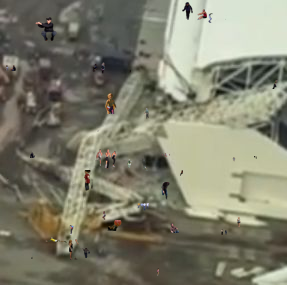Human: (92, 62, 131, 76), (35, 17, 57, 41), (72, 170, 94, 191), (95, 149, 117, 169), (105, 93, 118, 114), (127, 158, 148, 171), (68, 239, 79, 260), (107, 220, 126, 231), (159, 182, 170, 201), (182, 2, 193, 20), (195, 9, 207, 21), (45, 237, 67, 243), (137, 203, 149, 212), (80, 248, 90, 258), (65, 225, 74, 235), (170, 223, 179, 233), (208, 13, 216, 23), (4, 65, 16, 71), (272, 79, 278, 89), (144, 108, 149, 119), (237, 217, 241, 227), (102, 211, 106, 220), (221, 229, 227, 235), (30, 152, 36, 158), (162, 153, 170, 157), (232, 157, 236, 162), (180, 170, 183, 176), (157, 268, 159, 276), (31, 253, 33, 259), (225, 15, 227, 20), (7, 177, 9, 182), (97, 129, 100, 132), (254, 156, 257, 159)
